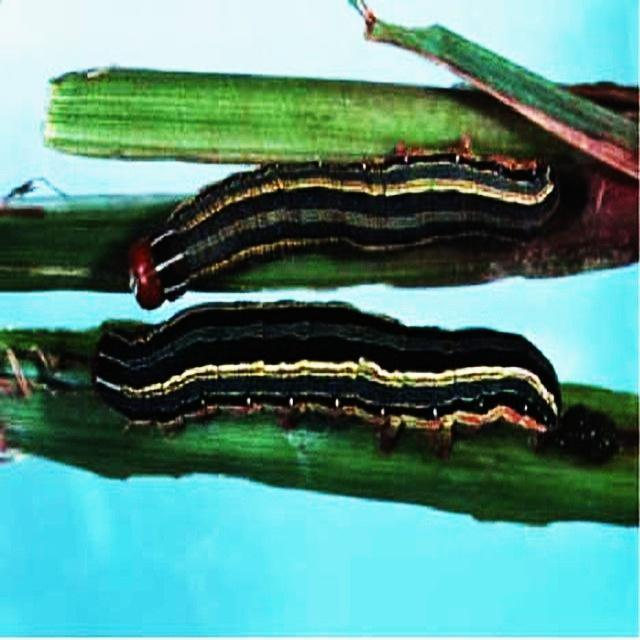gusano_cogollero: (118, 135, 564, 310)
